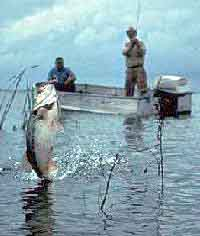fish: (25, 82, 66, 183)
